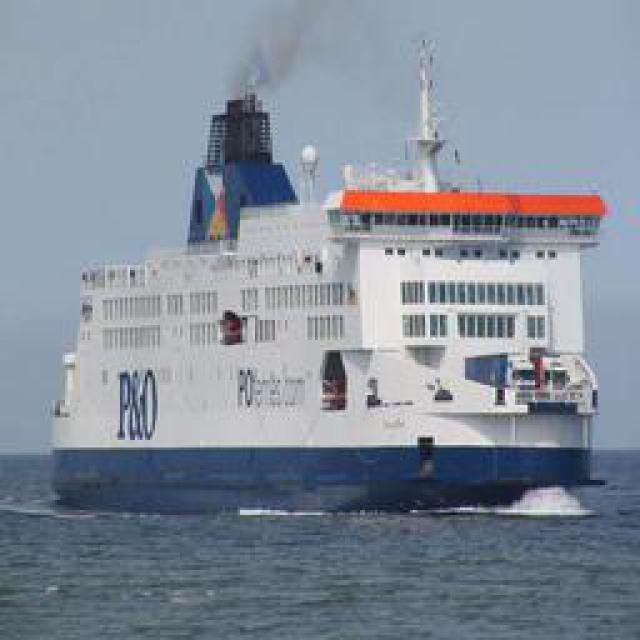Ship: (49, 40, 624, 518)
